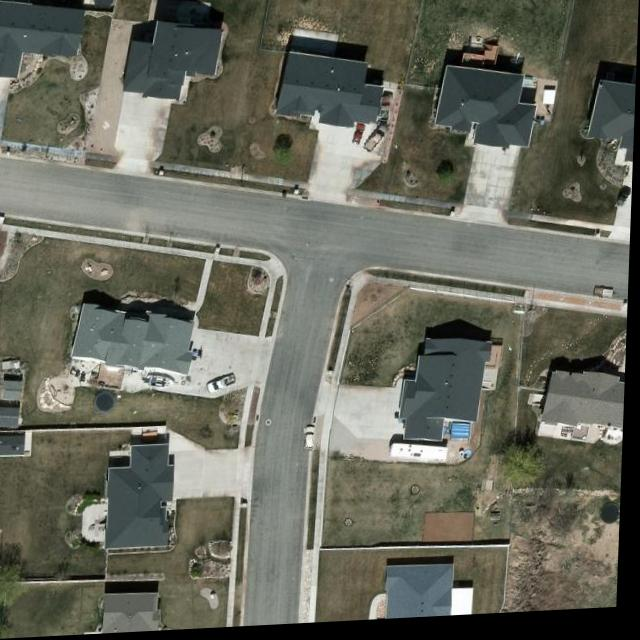vehicle: (364, 124, 391, 160), (208, 377, 242, 397), (379, 100, 395, 126), (618, 192, 634, 216), (306, 429, 319, 455), (352, 129, 367, 150)
